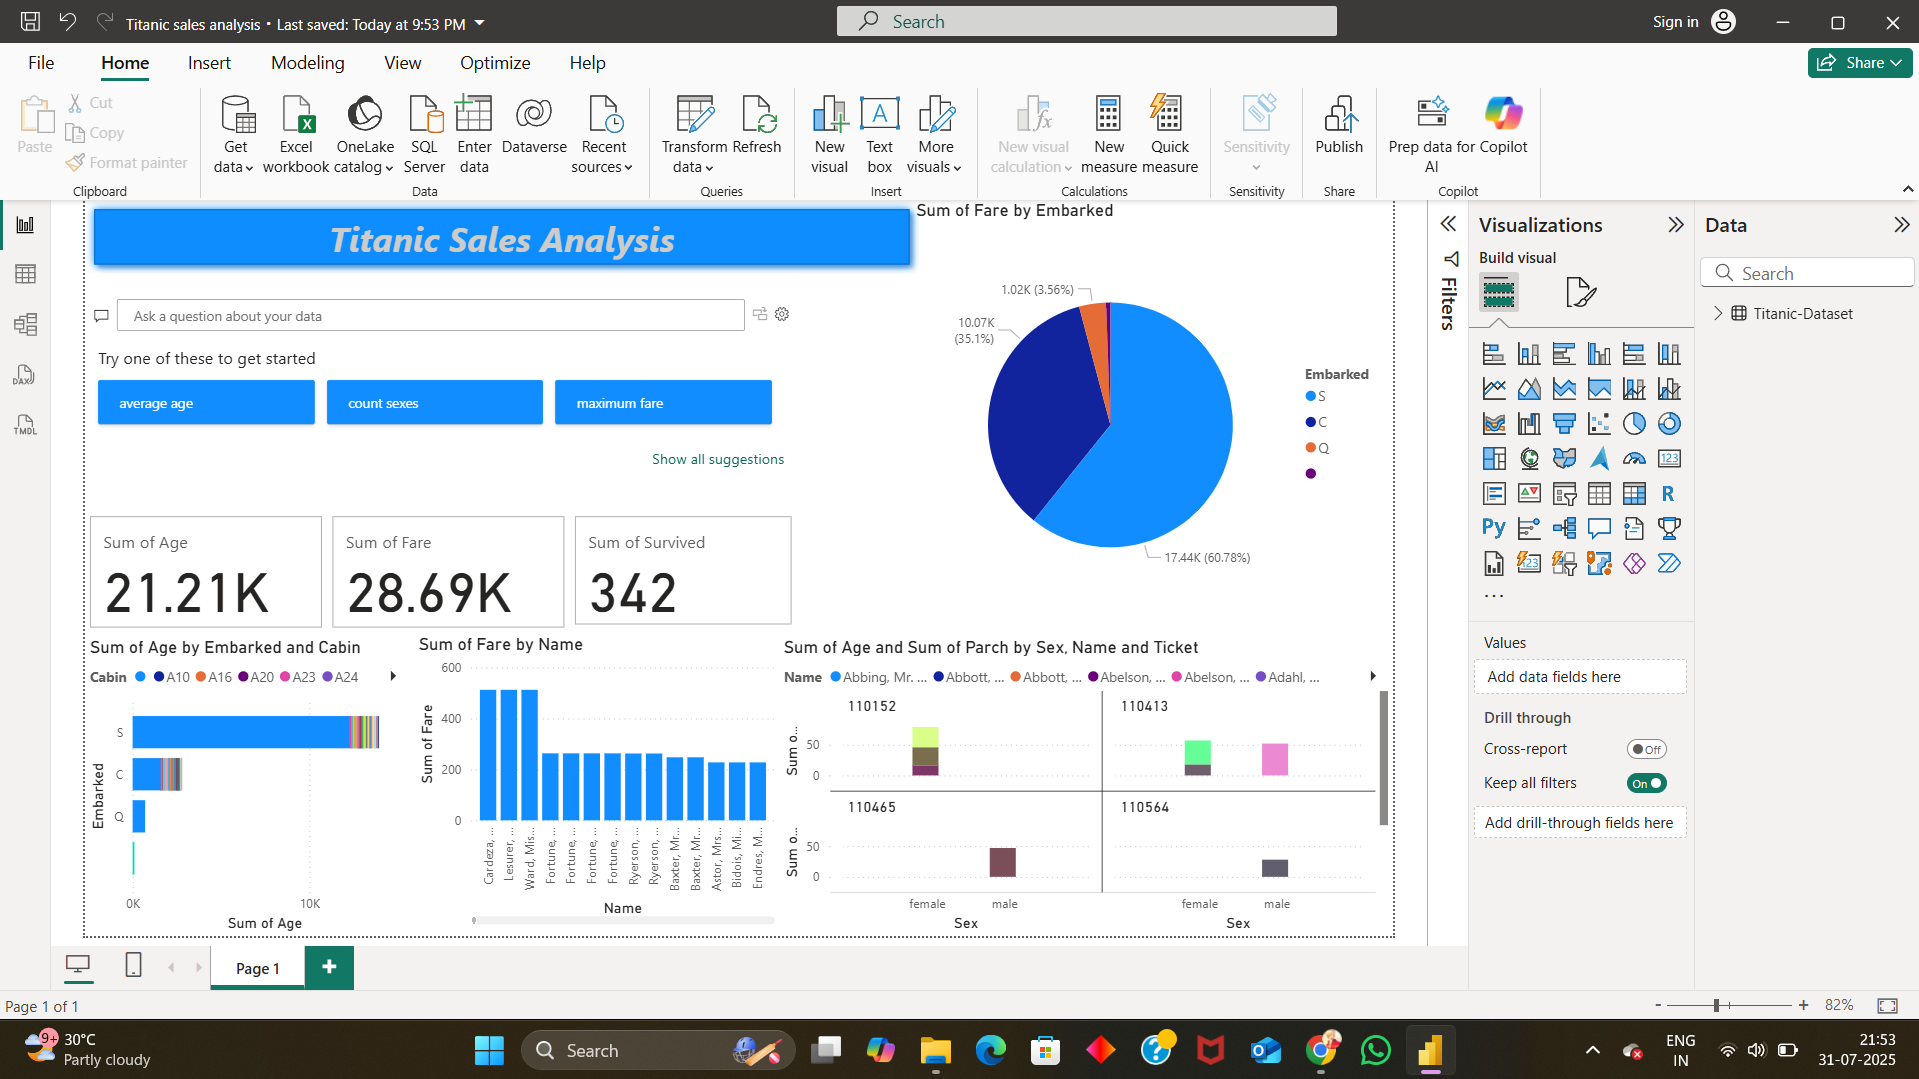

The page's visual inventory and layout, read from the dashboard file:
{"tool":"powerbi","page":{"name":"Page 1","canvas":[1280,720],"ordinal":0},"visuals":[{"type":"barChart","fields":{"Y":["Sum(Titanic-Dataset.Age)"],"Category":["Titanic-Dataset.Embarked"],"Series":["Titanic-Dataset.Cabin"]},"box":[0,426.8,321.1,293.7],"z":0},{"type":"columnChart","fields":{"Y":["Sum(Titanic-Dataset.Fare)"],"Category":["Titanic-Dataset.Name"]},"box":[321.1,424,358.1,289.5],"z":1000},{"type":"cardVisual","fields":{"Data":["Sum(Titanic-Dataset.Age)"]},"box":[0,304.6,237.4,119.4],"z":2000},{"type":"cardVisual","fields":{"Data":["Sum(Titanic-Dataset.Fare)"]},"box":[237.4,304.6,237.4,119.4],"z":3000},{"type":"pieChart","fields":{"Y":["Sum(Titanic-Dataset.Fare)"],"Category":["Titanic-Dataset.Embarked","Titanic-Dataset.Name","Titanic-Dataset.Sex","Titanic-Dataset.Ticket"]},"box":[808.2,0,472,421.3],"z":4000},{"type":"ribbonChart","fields":{"Y":["Sum(Titanic-Dataset.Age)"],"Category":["Titanic-Dataset.Sex"],"Series":["Titanic-Dataset.Name"],"Rows":["Titanic-Dataset.Ticket"]},"box":[679.2,426.8,601,293.7],"z":5000},{"type":"shape","box":[0,0,815.6,72.1],"z":6000},{"type":"qnaVisual","box":[0,72.7,697.1,231.9],"z":7000},{"type":"cardVisual","fields":{"Data":["Sum(Titanic-Dataset.Survived)"]},"box":[474.8,304.6,222.3,116.6],"z":8000}]}

Visuals, with their boxes on the page's 1280x720 design canvas (x1, y1, x2, y2). These are canvas units, not pixel positions in the 1919x1079 screenshot, which may show the page scaled, cropped or inside an application window:
barChart - Sum(Titanic-Dataset.Age) x Titanic-Dataset.Embarked: box(0, 427, 321, 720)
columnChart - Sum(Titanic-Dataset.Fare) x Titanic-Dataset.Name: box(321, 424, 679, 714)
cardVisual - Sum(Titanic-Dataset.Age): box(0, 305, 237, 424)
cardVisual - Sum(Titanic-Dataset.Fare): box(237, 305, 475, 424)
pieChart - Sum(Titanic-Dataset.Fare) x Titanic-Dataset.Embarked: box(808, 0, 1280, 421)
ribbonChart - Sum(Titanic-Dataset.Age) x Titanic-Dataset.Sex: box(679, 427, 1280, 720)
shape: box(0, 0, 816, 72)
qnaVisual: box(0, 73, 697, 305)
cardVisual - Sum(Titanic-Dataset.Survived): box(475, 305, 697, 421)
